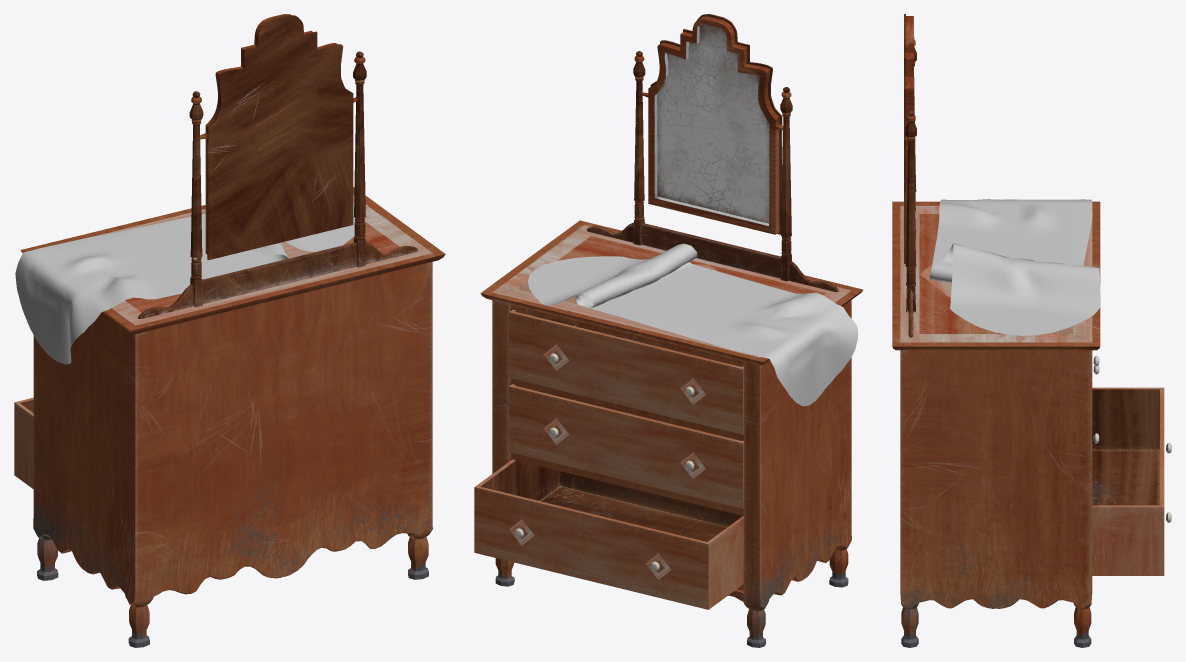
File: OldDresser.FBX
The picture shows the model from 3 angles, left to right: view 1: azimuth 30°, elevation 25°; view 2: azimuth 150°, elevation 25°; view 3: azimuth 270°, elevation 25°; orthographic projection. The views are drawn at different scales.
Visible parts, largest first — view 1: Dresser, DresserMirror, DresserCloth, DresserDrawer; view 2: Dresser, DresserMirror, DresserDrawer, DresserCloth, DresserDrawer002, DresserDrawer001; view 3: Dresser, DresserCloth, DresserDrawer, DresserMirror.
Boxes of the visible parts, x1,y1,x2,y2 form: Dresser: (20,186,445,647); DresserMirror: (138,14,417,318); DresserCloth: (15,205,355,364); DresserDrawer: (14,397,33,488); Dresser: (480,220,862,647); DresserMirror: (587,14,838,291); DresserDrawer: (474,459,743,609); DresserCloth: (527,243,858,406); DresserDrawer002: (509,309,743,434); DresserDrawer001: (509,384,743,508); Dresser: (892,201,1100,647); DresserCloth: (929,199,1100,335); DresserDrawer: (1092,387,1171,575); DresserMirror: (904,14,916,337).
Size of the model in its own units: 50.47 by 84.27 by 38.11.
